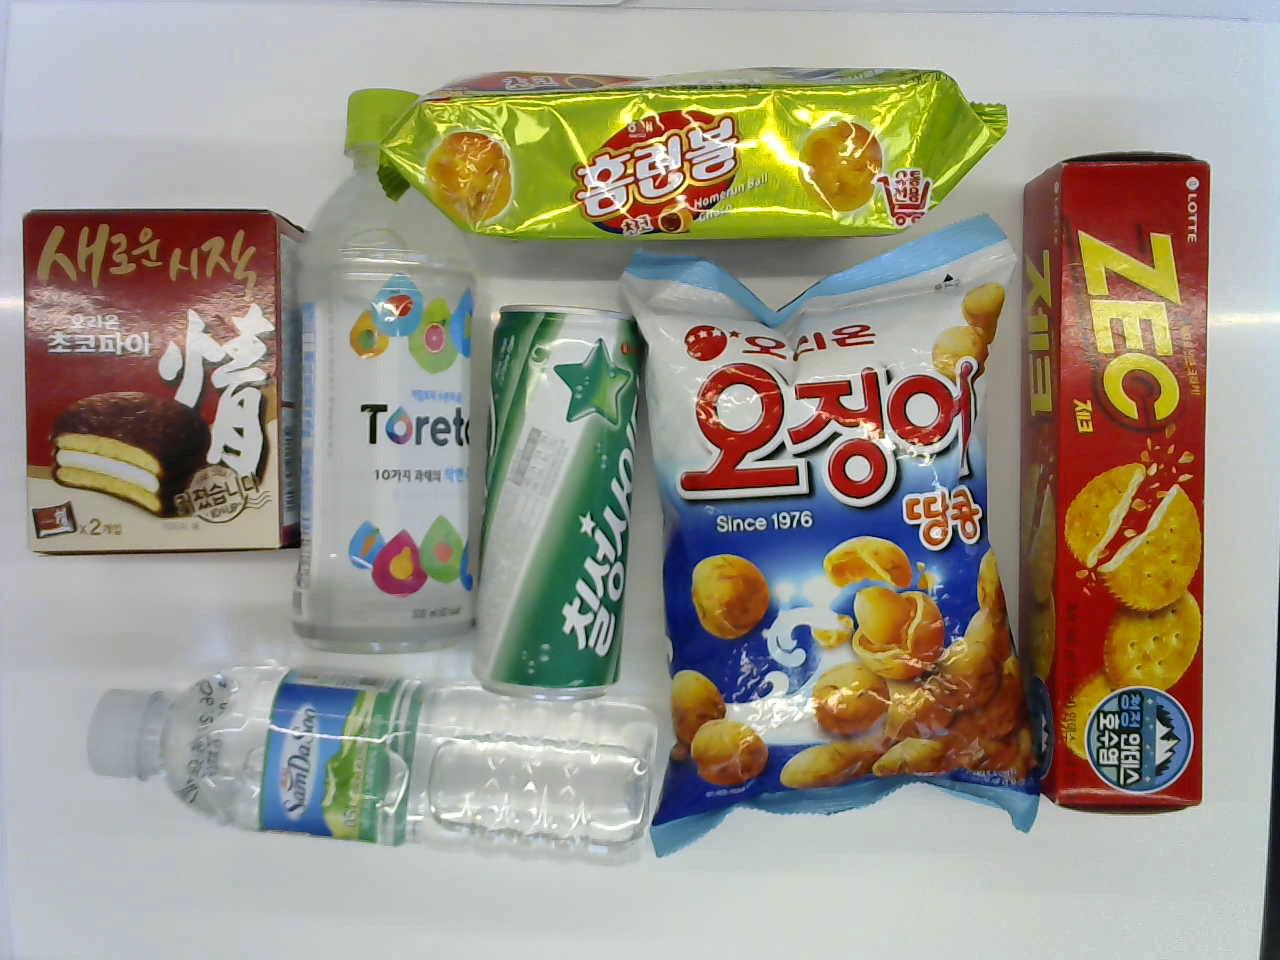chocopie: (15, 197, 305, 563)
cidar: (78, 659, 670, 864), (470, 299, 644, 694)
homerunball: (336, 77, 995, 231)
squid_peanut: (645, 238, 1011, 847)
toreta: (287, 88, 488, 653)
zec: (1027, 147, 1217, 815)
